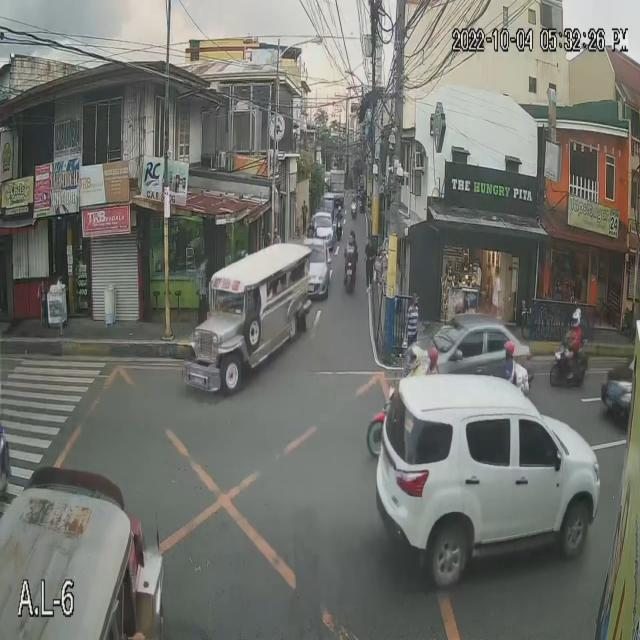full: (405, 344, 424, 372), (570, 310, 582, 328)
half: (426, 346, 439, 369), (502, 339, 516, 360)
